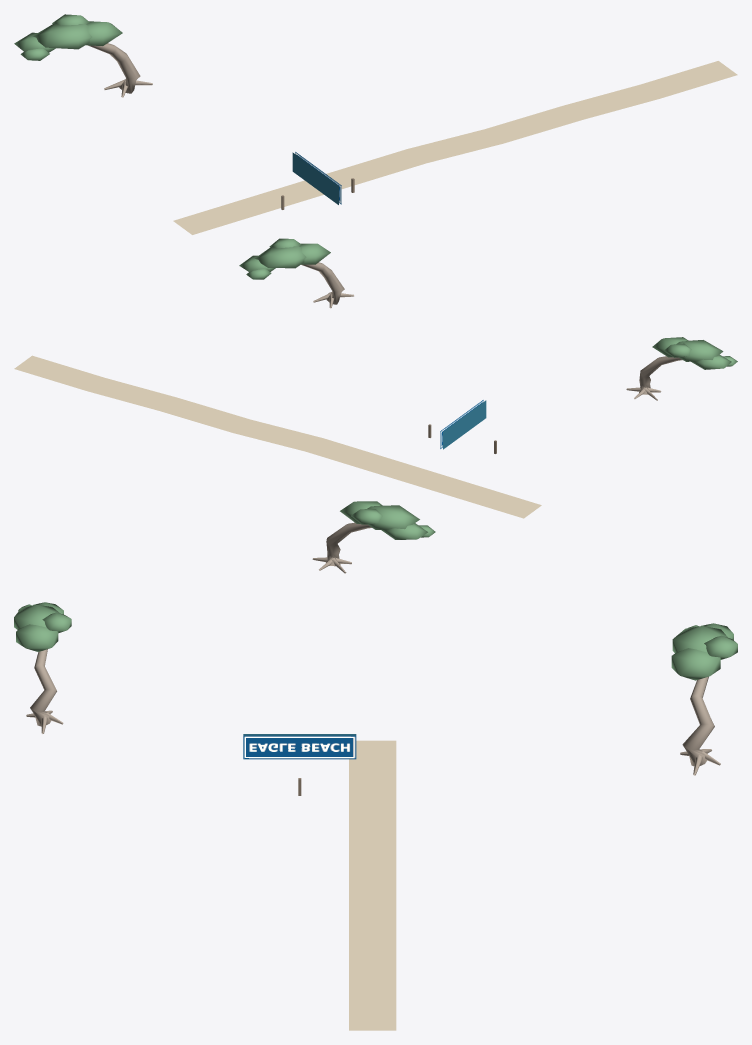
File: eb_shore.glb
The picture shows the model from 3 angles, top to bottom: view 1: azimuth 30°, elevation 25°; view 2: azimuth 150°, elevation 25°; view 3: azimuth 270°, elevation 25°; orthographic projection. The views are drawn at different scales.
Parts seen in each view (by area): view 1: eb_shore_lod0; view 2: eb_shore_lod0; view 3: eb_shore_lod0.
Part boxes in pixels (x1,y1,x2,y2): eb_shore_lod0: (14, 14, 737, 308); eb_shore_lod0: (14, 337, 737, 573); eb_shore_lod0: (14, 602, 737, 1030).
Size of what is drawn, in the model's own units: 47.81 by 7.18 by 39.77.
Materials: 6 (1 with a texture image).
